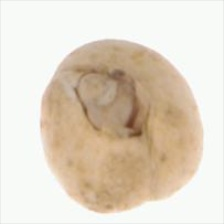L3: (68, 69, 146, 139)
L4: (39, 40, 204, 213)
